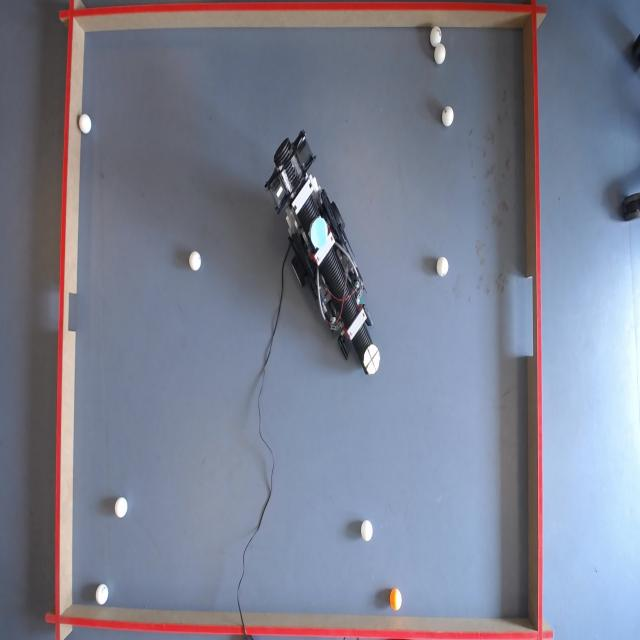orange: (389, 588, 403, 610)
robot: (264, 125, 381, 381)
robot-front: (363, 346, 381, 376)
robot-rear: (310, 217, 328, 250)
white: (114, 496, 128, 520), (96, 584, 110, 607), (360, 520, 374, 542), (438, 258, 452, 278), (79, 113, 92, 134), (189, 251, 202, 271), (429, 28, 442, 48), (442, 103, 454, 124), (434, 45, 446, 64)
